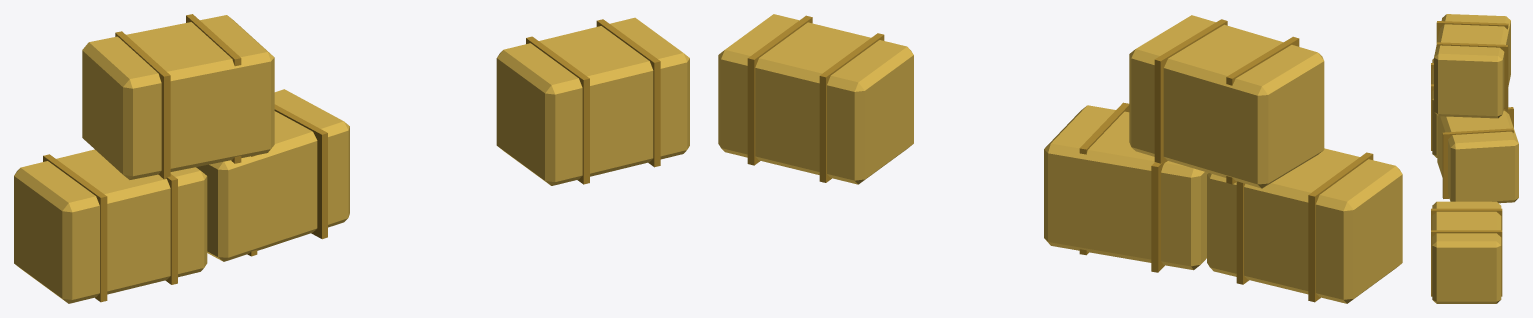
The model's file is jerami_v001.glb.
3 renders of one model, left to right at view 1: azimuth 30°, elevation 25°; view 2: azimuth 150°, elevation 25°; view 3: azimuth 270°, elevation 25°, orthographic. The views are drawn at different scales.
Visible parts, largest first — view 1: Jerami_Tumpuk, Jerami_Satu; view 2: Jerami_Tumpuk, Jerami_Satu; view 3: Jerami_Tumpuk, Jerami_Satu.
Boxes of the visible parts, <box> form: Jerami_Tumpuk: <box>14,14,349,303</box>; Jerami_Satu: <box>496,17,689,185</box>; Jerami_Tumpuk: <box>1044,15,1402,303</box>; Jerami_Satu: <box>718,14,913,184</box>; Jerami_Tumpuk: <box>1431,14,1518,203</box>; Jerami_Satu: <box>1431,201,1502,303</box>.
Size of the model in its own units: 3.9 by 1.22 by 0.7641.
